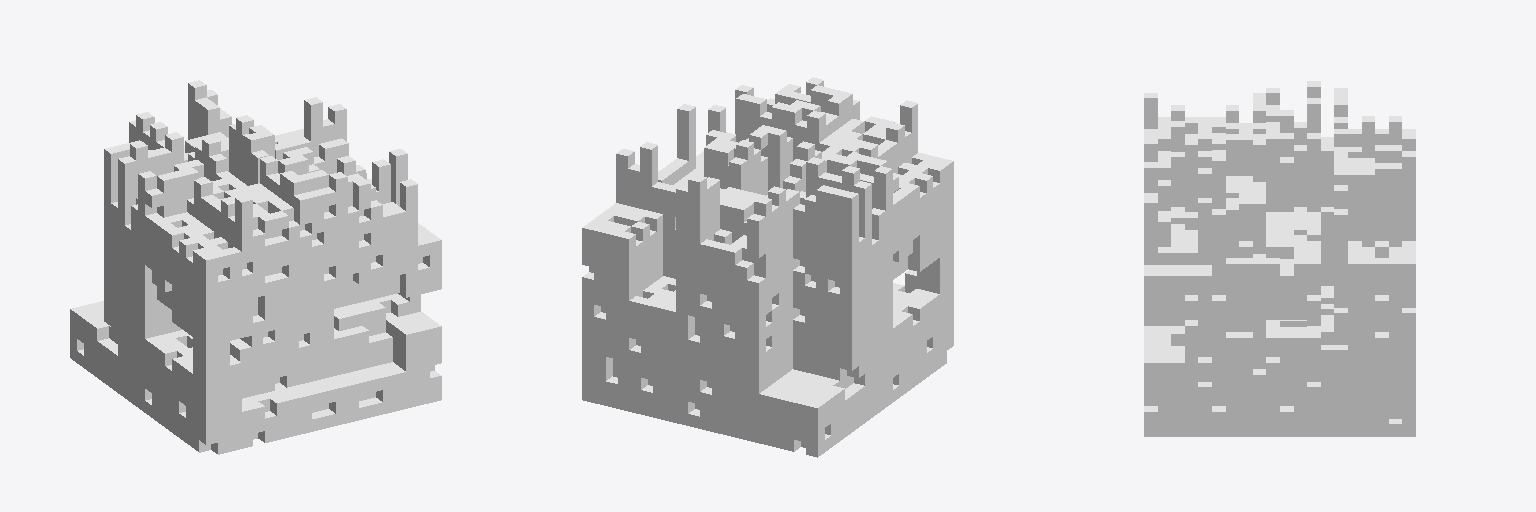
File: SpikeVar2.obj
3 renders of one model, left to right at view 1: azimuth 30°, elevation 25°; view 2: azimuth 150°, elevation 25°; view 3: azimuth 270°, elevation 25°, orthographic.
Parts seen in each view (by area): view 1: object 1; view 2: object 1; view 3: object 1.
Boxes of the visible parts, x1=… form: object 1: x1=70, y1=80, x2=441, y2=454; object 1: x1=582, y1=77, x2=953, y2=457; object 1: x1=1144, y1=81, x2=1415, y2=436.
Size of the model in its own units: 2 by 2 by 2.